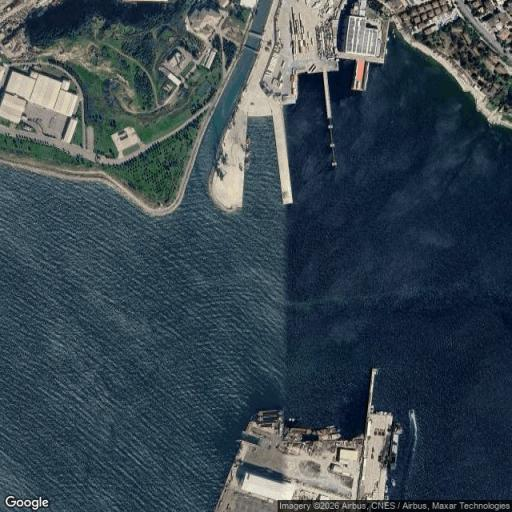ship: (390, 423, 402, 470), (409, 410, 419, 451), (257, 410, 280, 417), (317, 428, 342, 434), (319, 434, 341, 440), (291, 428, 312, 434), (390, 479, 395, 487), (385, 485, 388, 493), (371, 405, 374, 413)
